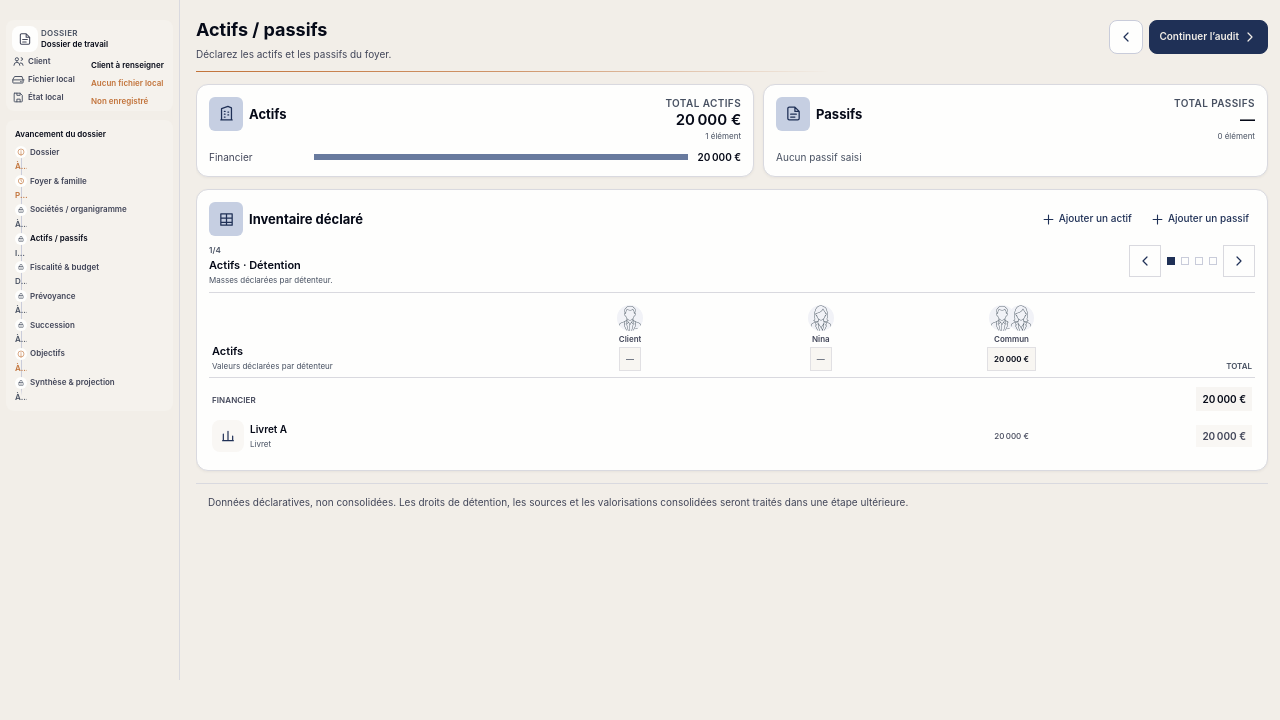
Test case: ActifsPassifsPage › permet de qualifier le propriétaire depuis le drawer actif
Click the button with aria-label "Modifier Livret A" at x=228, y=436, box [209,414,1255,458]
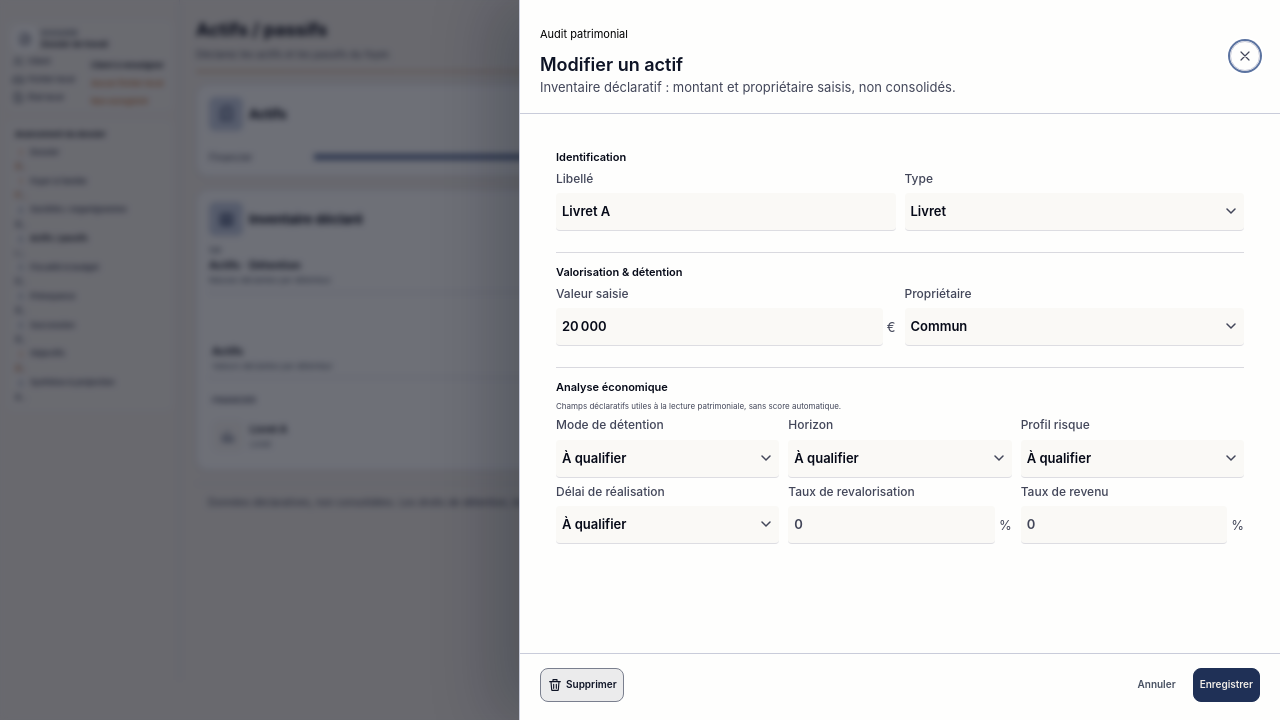
Expected: the heading "Analyse économique" is shown, [556,380,668,395]
Click the button named "Propriétaire" at x=939, y=326, box [904,308,1244,346]
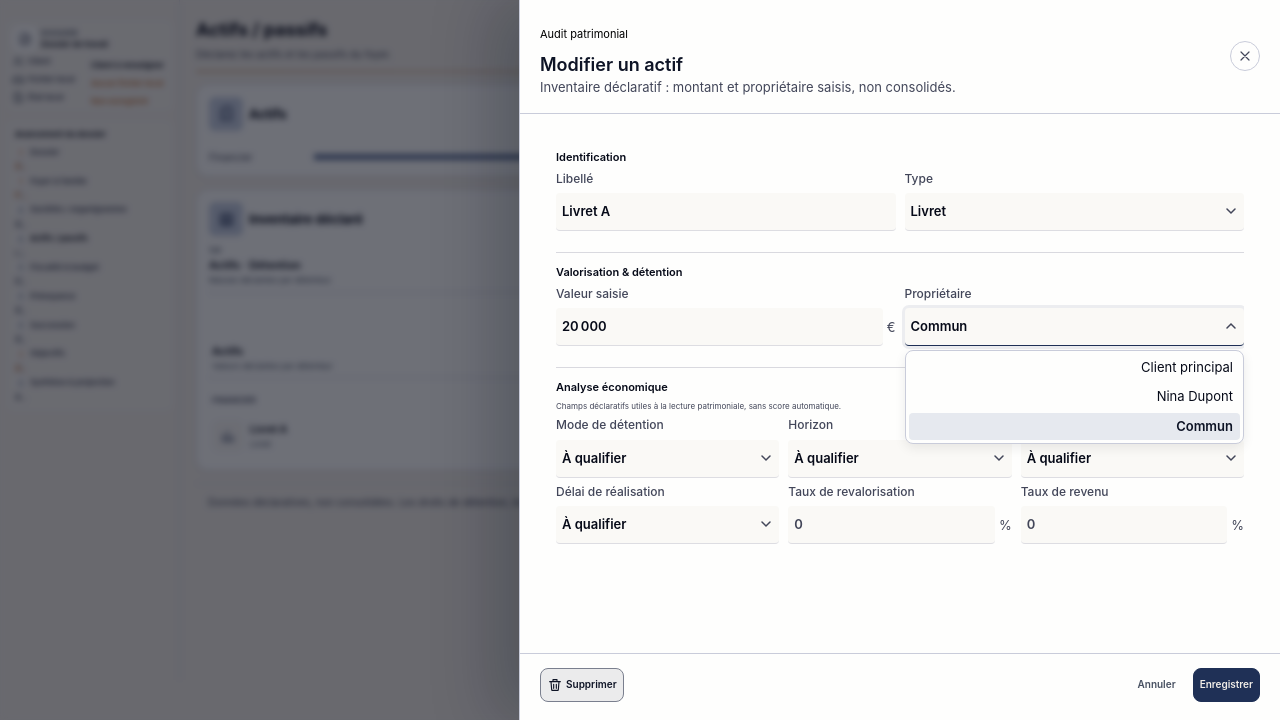
Expected: the option "Client principal" is shown, [1141,359,1233,375]
Expected: the option "Nina Dupont" is shown, [1157,388,1233,404]
